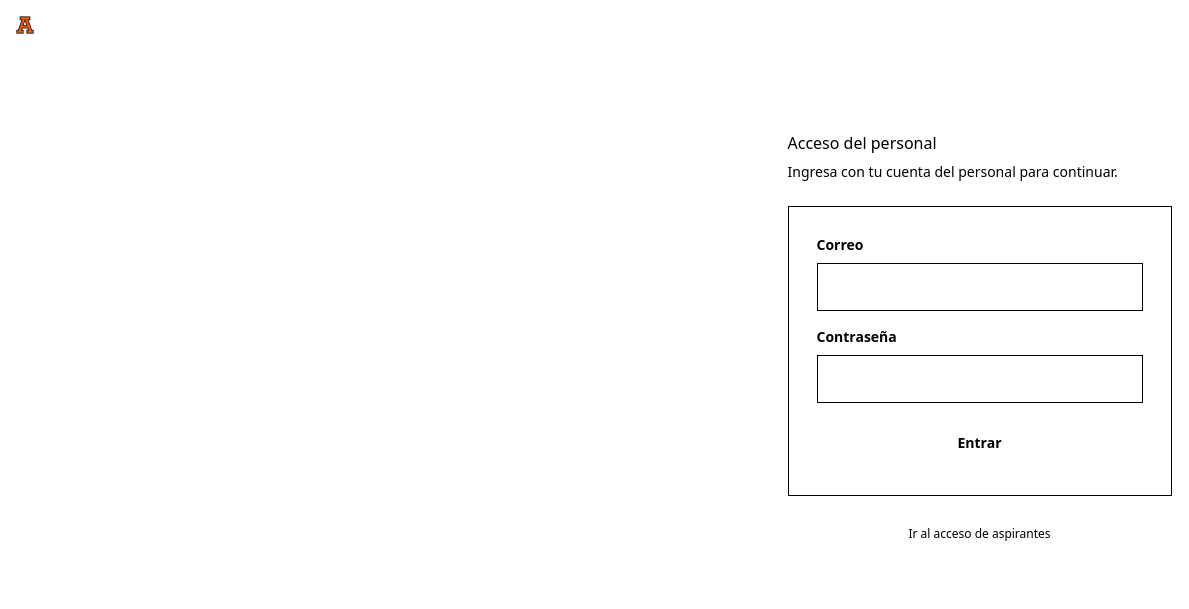
Test case: Staff: a 429 is explained as saturation — never as wrong credentials — and what was typed is kept
The image size is (1189, 609).
Type "staff@anahuac.mx" into the field labelled "Correo" at x=980, y=287, box left=816, top=263, right=1142, bottom=311
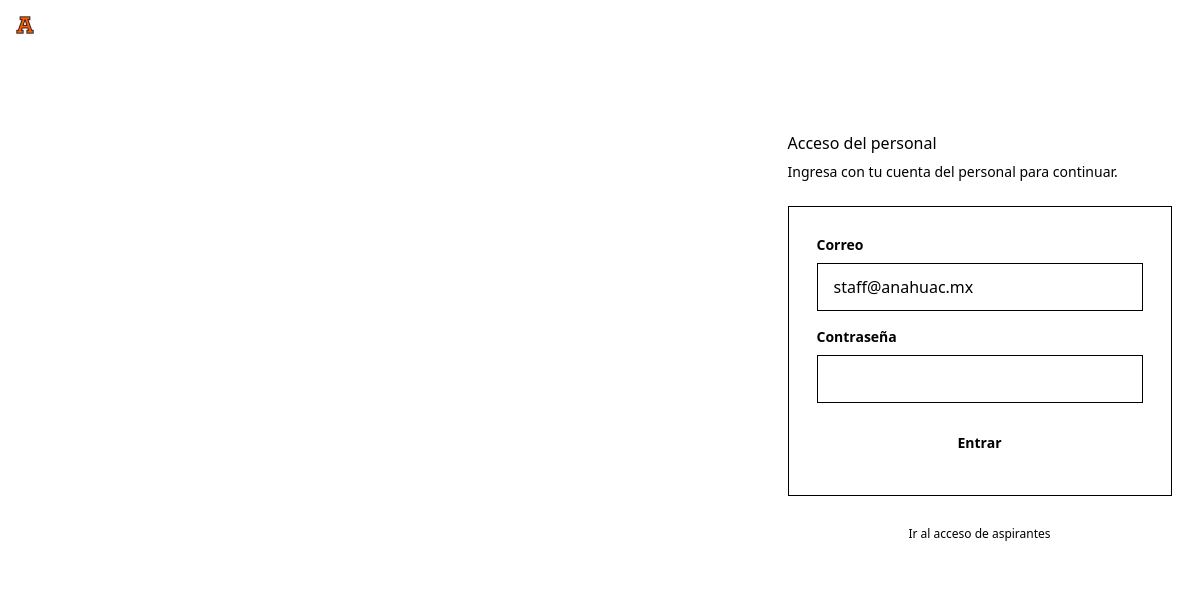
Type "clave-staff-1" into the password field labelled "Contraseña" at x=980, y=379, box left=816, top=355, right=1142, bottom=403
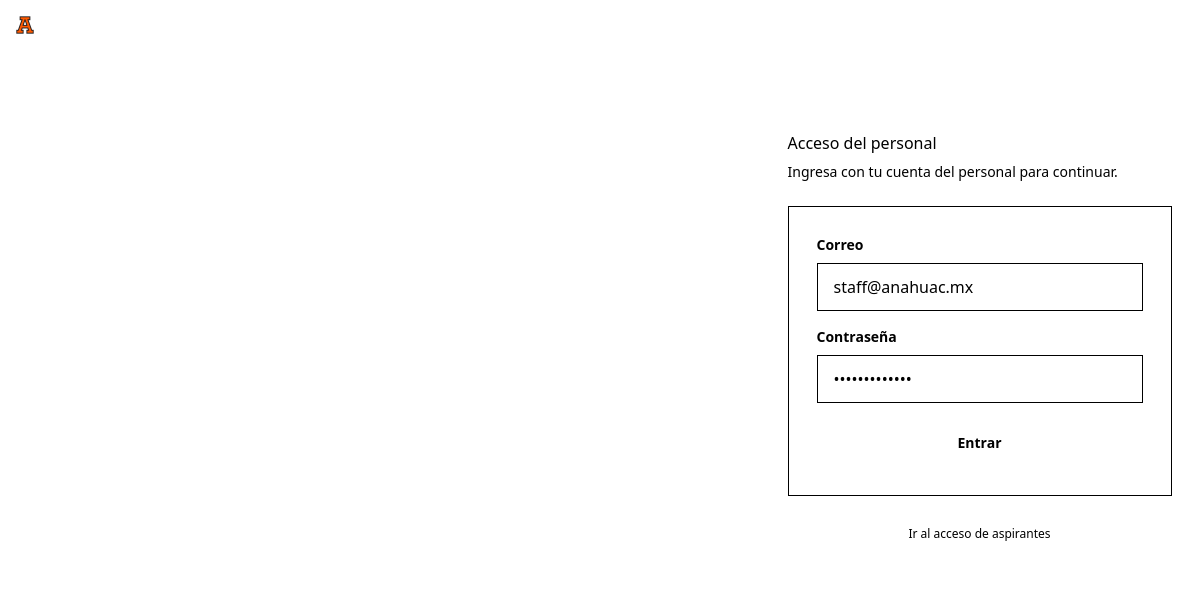
Click the button "Entrar" at x=980, y=443, box left=816, top=419, right=1142, bottom=467
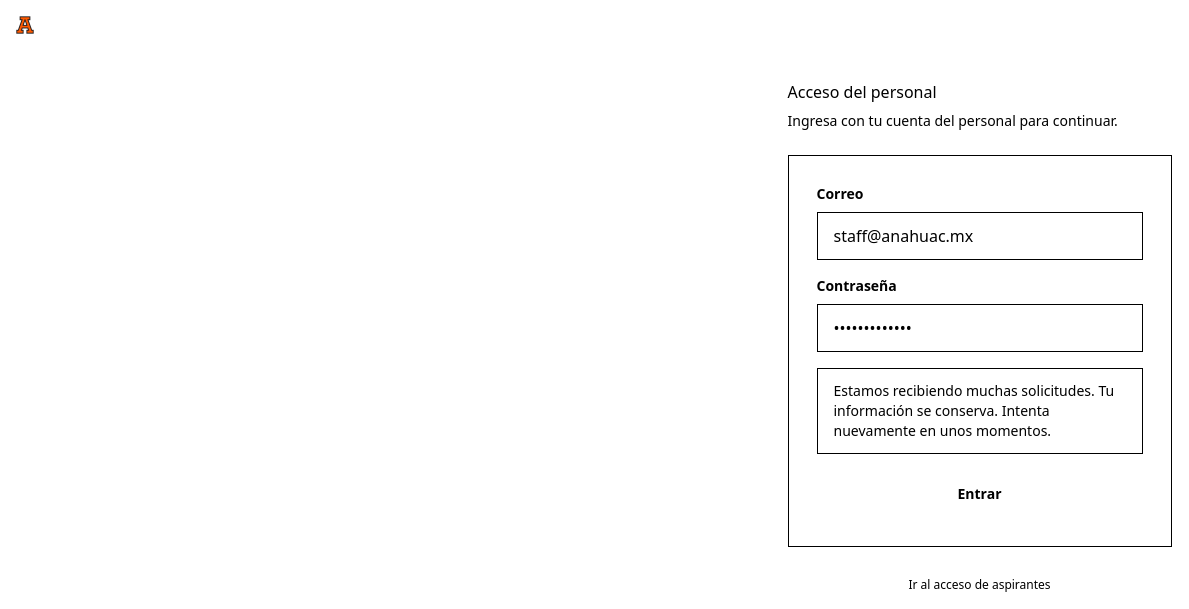
Expected: the message does not show "incorrectos", left=816, top=368, right=1142, bottom=454
Now the message shows "Estamos recibiendo muchas solicitudes. Tu información se conserva. Intenta nuevamente en unos momentos.", box left=834, top=381, right=1114, bottom=440
